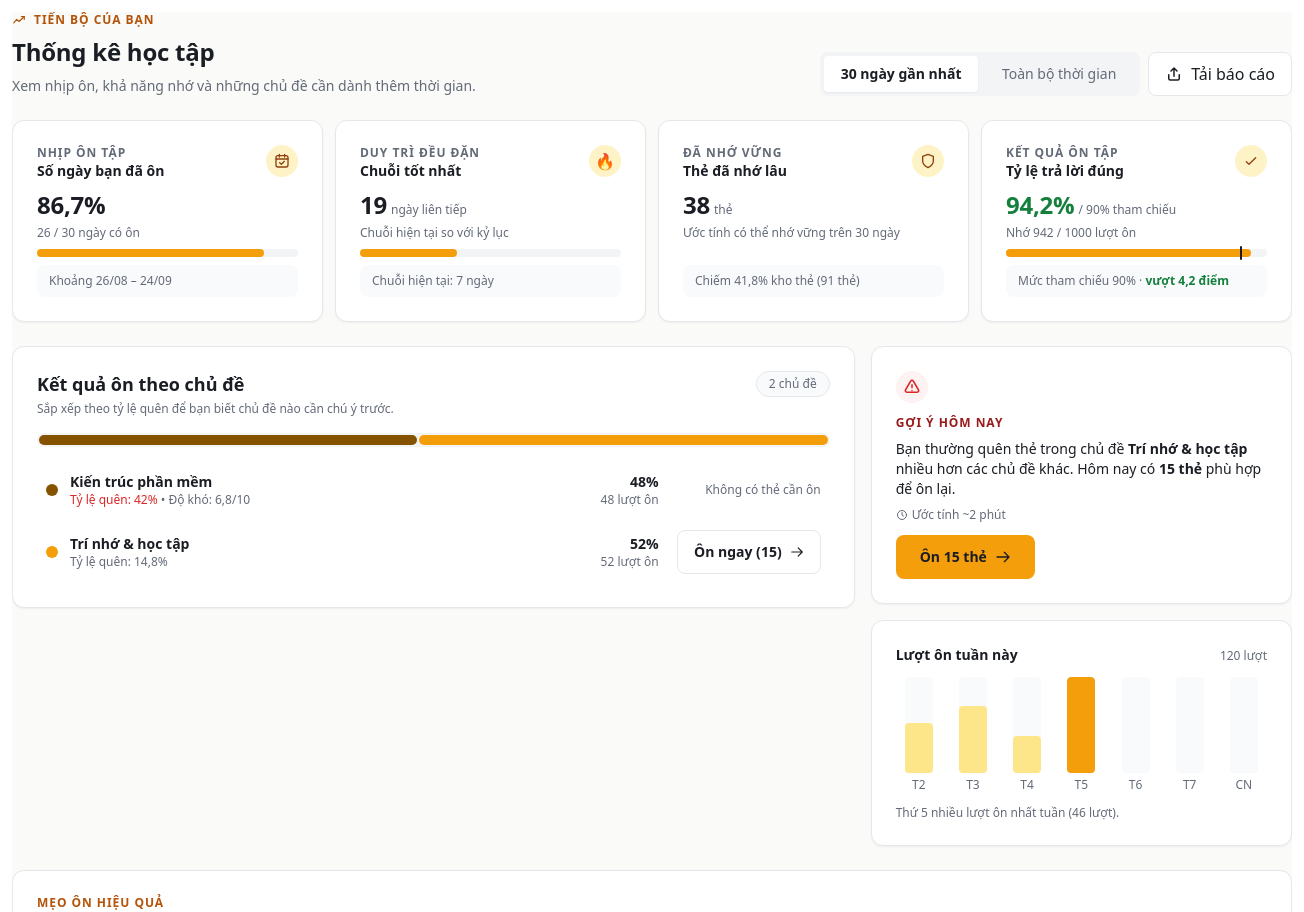
Test: E10-S1-T4 — TC-073 màn Thống kê đầy đủ › "Ôn ngay" mở phiên chỉ gồm thẻ của nhánh, xong thì quay về Thống kê
This screenshot has width=1304, height=912.
What coordinates should you click on to do the following:
click the link with aria-label "Ôn ngay 15 thẻ"
I would click on:
 (749, 552)
Its box is [677,530,821,574].
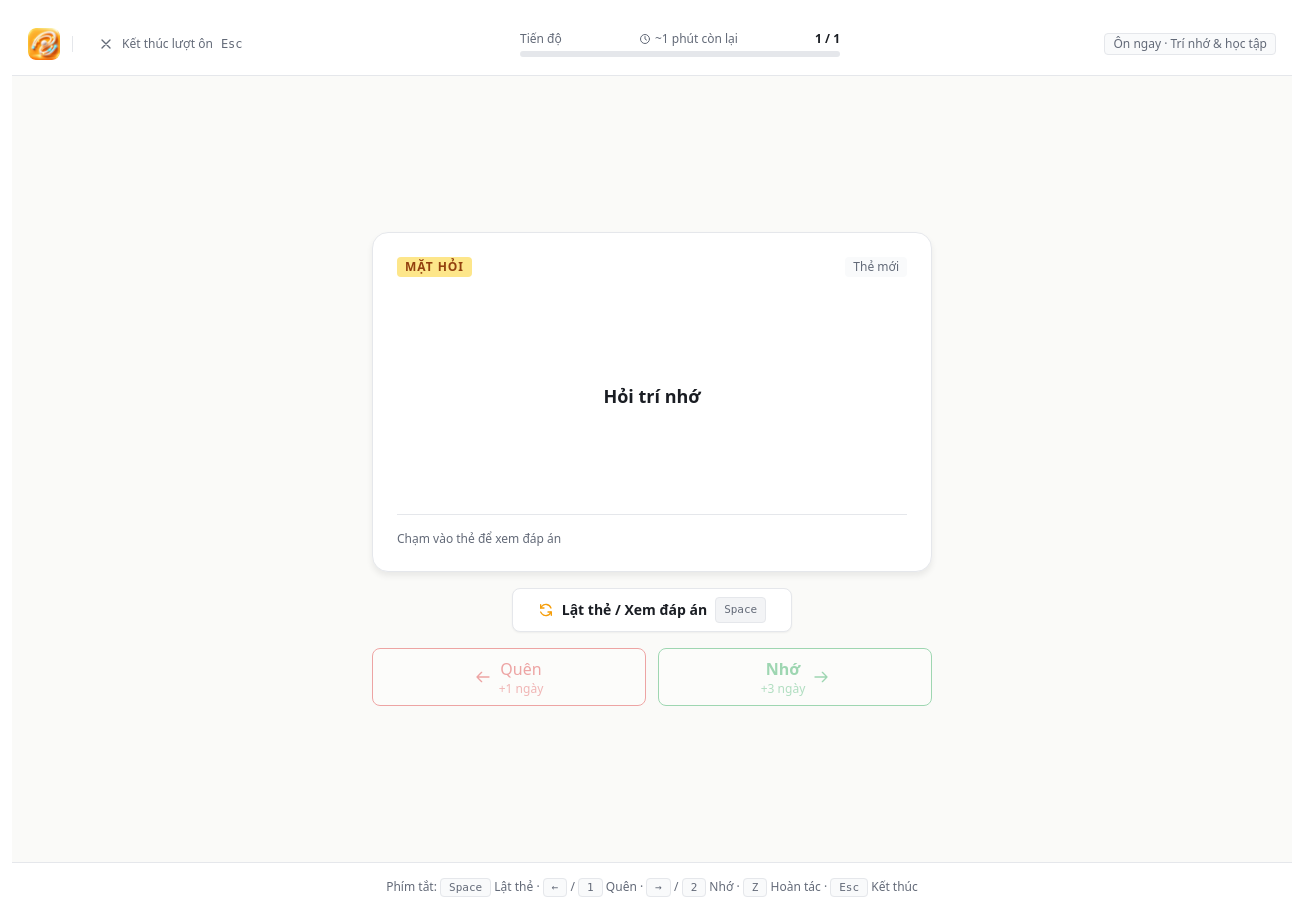
Expected: the text "Hỏi trí nhớ" is shown, [603,382,700,408]
Expected: the text "Ôn ngay · Trí nhớ & học tập" is shown, [1104,32,1276,54]
What coordinates should you click on to do the following:
click the button "Kết thúc lượt ôn Esc"
I would click on:
 (170, 44)
Its box is [85,22,256,66].
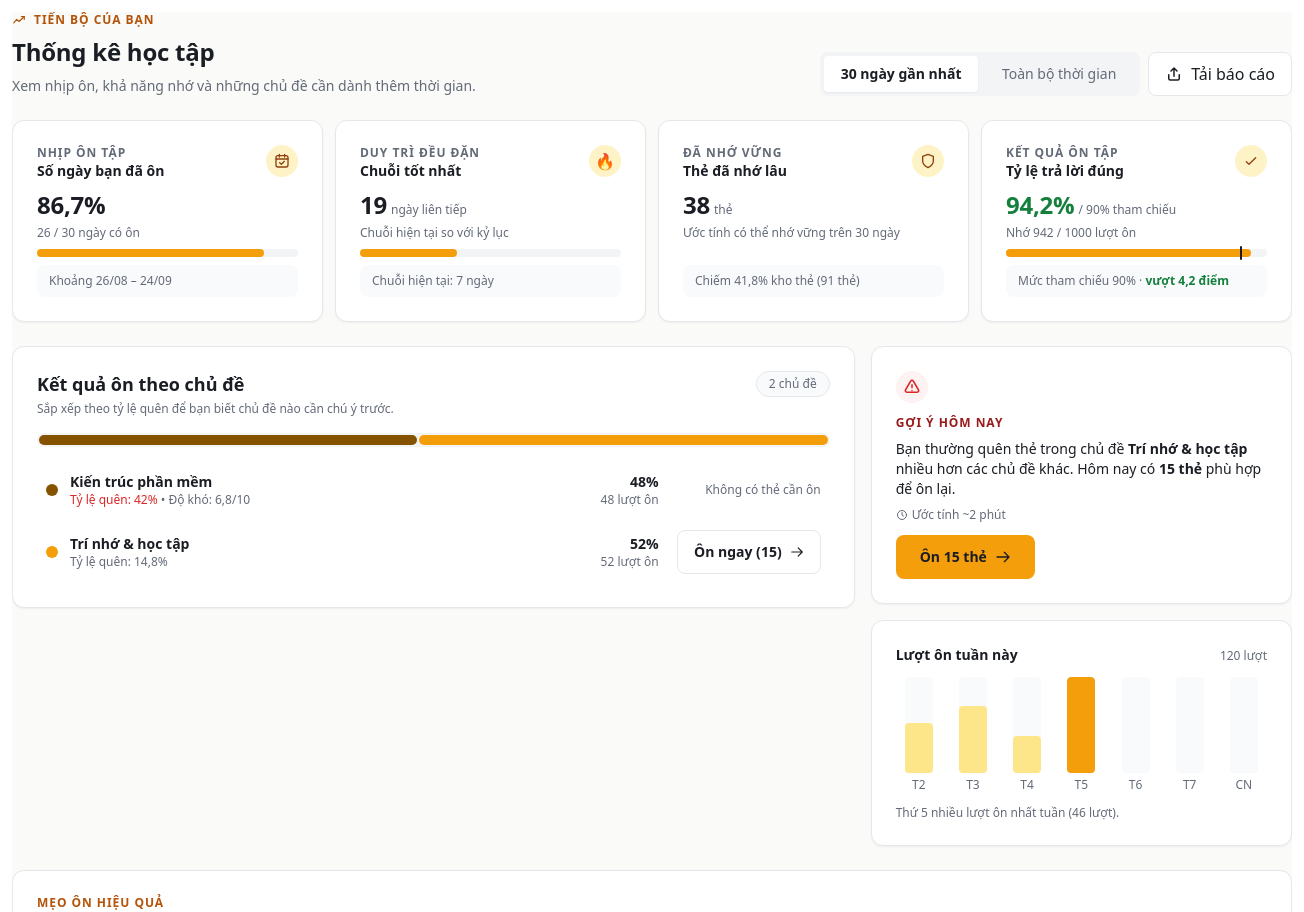
Expected: the heading "Thống kê học tập" is shown, [12,35,214,68]
